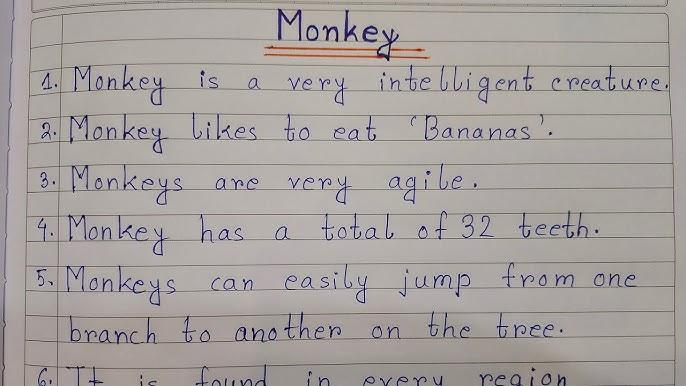text: (36, 260, 639, 309), (41, 62, 669, 109), (36, 208, 600, 259), (38, 111, 554, 157), (38, 161, 479, 208), (69, 309, 565, 347), (36, 363, 568, 386), (275, 6, 400, 64)
